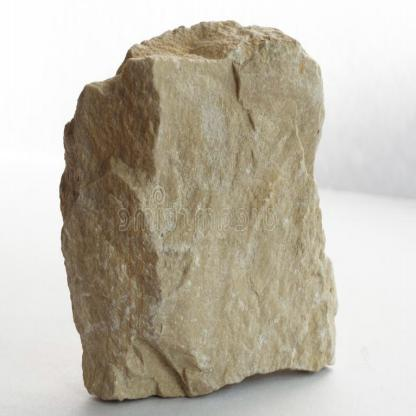Sedimentary_Limestone: (30, 10, 338, 405)
